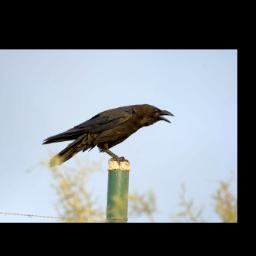Crow: (39, 101, 176, 167)
